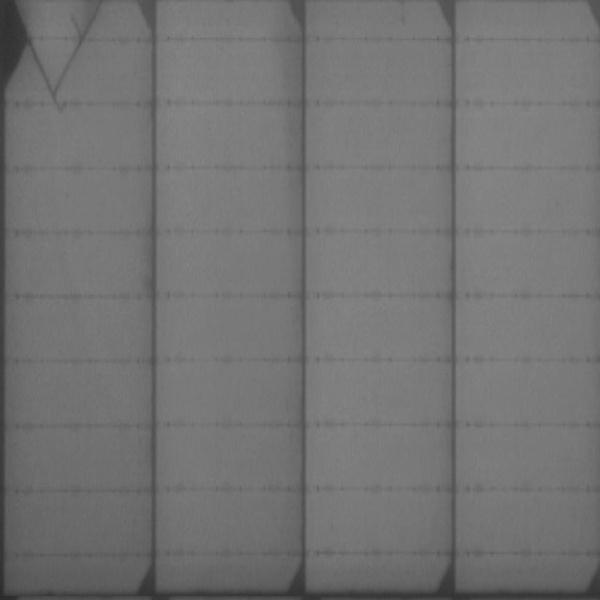broken: (1, 1, 106, 107)
